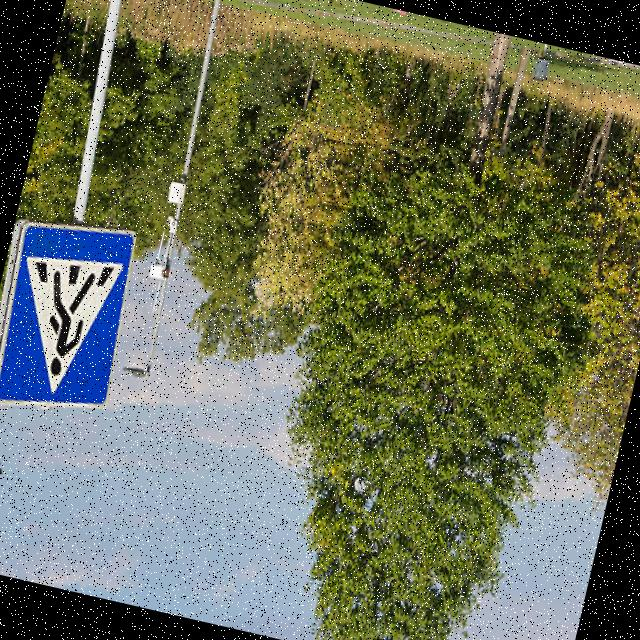crosswalk: (0, 202, 149, 429)
